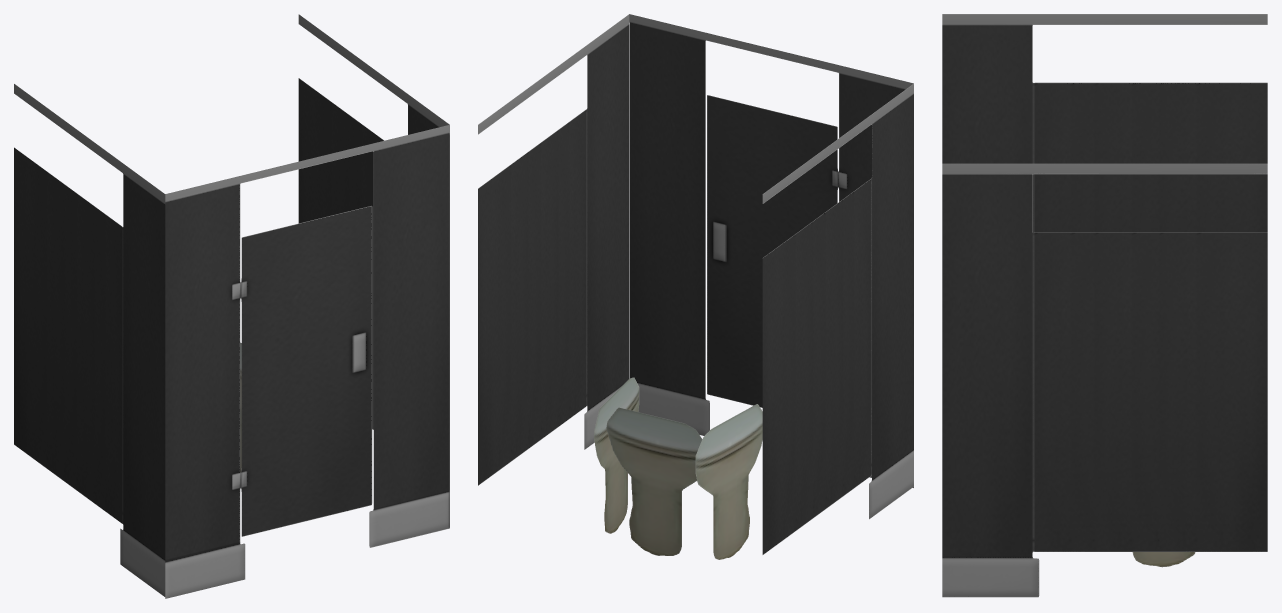
File: Toilet.fbx
3 views of the same model, side by side, from view 1: azimuth 30°, elevation 25°; view 2: azimuth 150°, elevation 25°; view 3: azimuth 270°, elevation 25° (orthographic). The views are drawn at different scales.
Parts seen in each view (by area): view 1: Toilet; view 2: Toilet; view 3: Toilet.
Boxes of the visible parts, box(x1,y1,x2,y2) form: Toilet: box(14, 14, 449, 598); Toilet: box(478, 14, 913, 559); Toilet: box(942, 14, 1267, 597).
Bounding box in the file's own units: 584 × 825 × 537.
